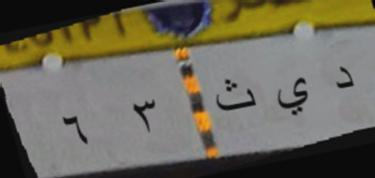3: (130, 95, 161, 137)
6: (60, 108, 90, 151)
daal: (325, 55, 358, 100)
thaa: (210, 69, 257, 119)
yaa: (270, 74, 310, 121)
